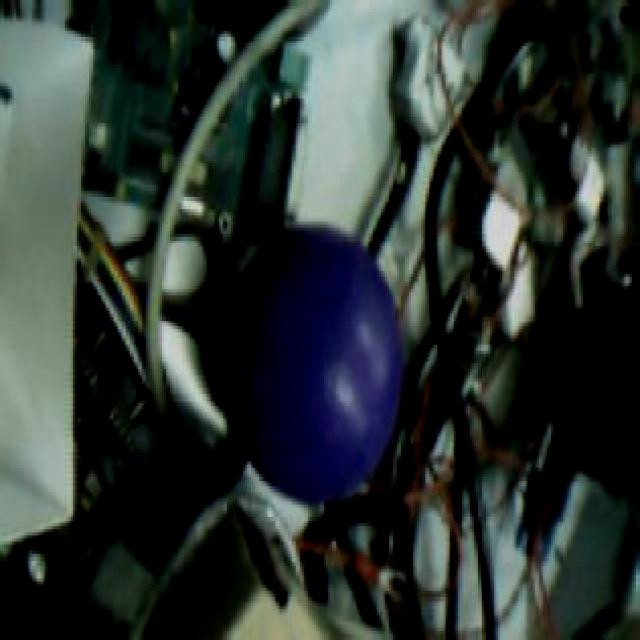BallPurple: (220, 222, 404, 500)
